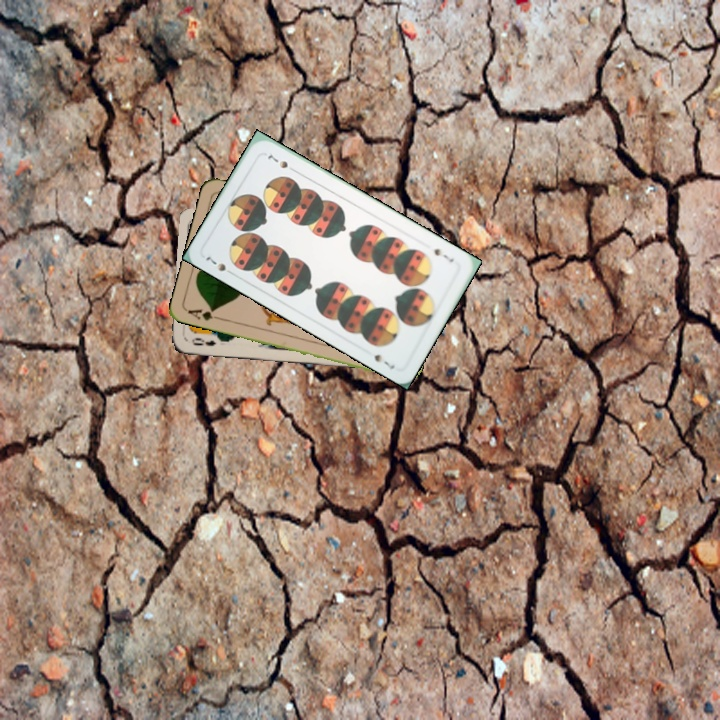EO: (188, 333, 218, 349)
GA: (184, 305, 224, 323)
S7: (201, 252, 237, 278), (430, 244, 456, 265)
